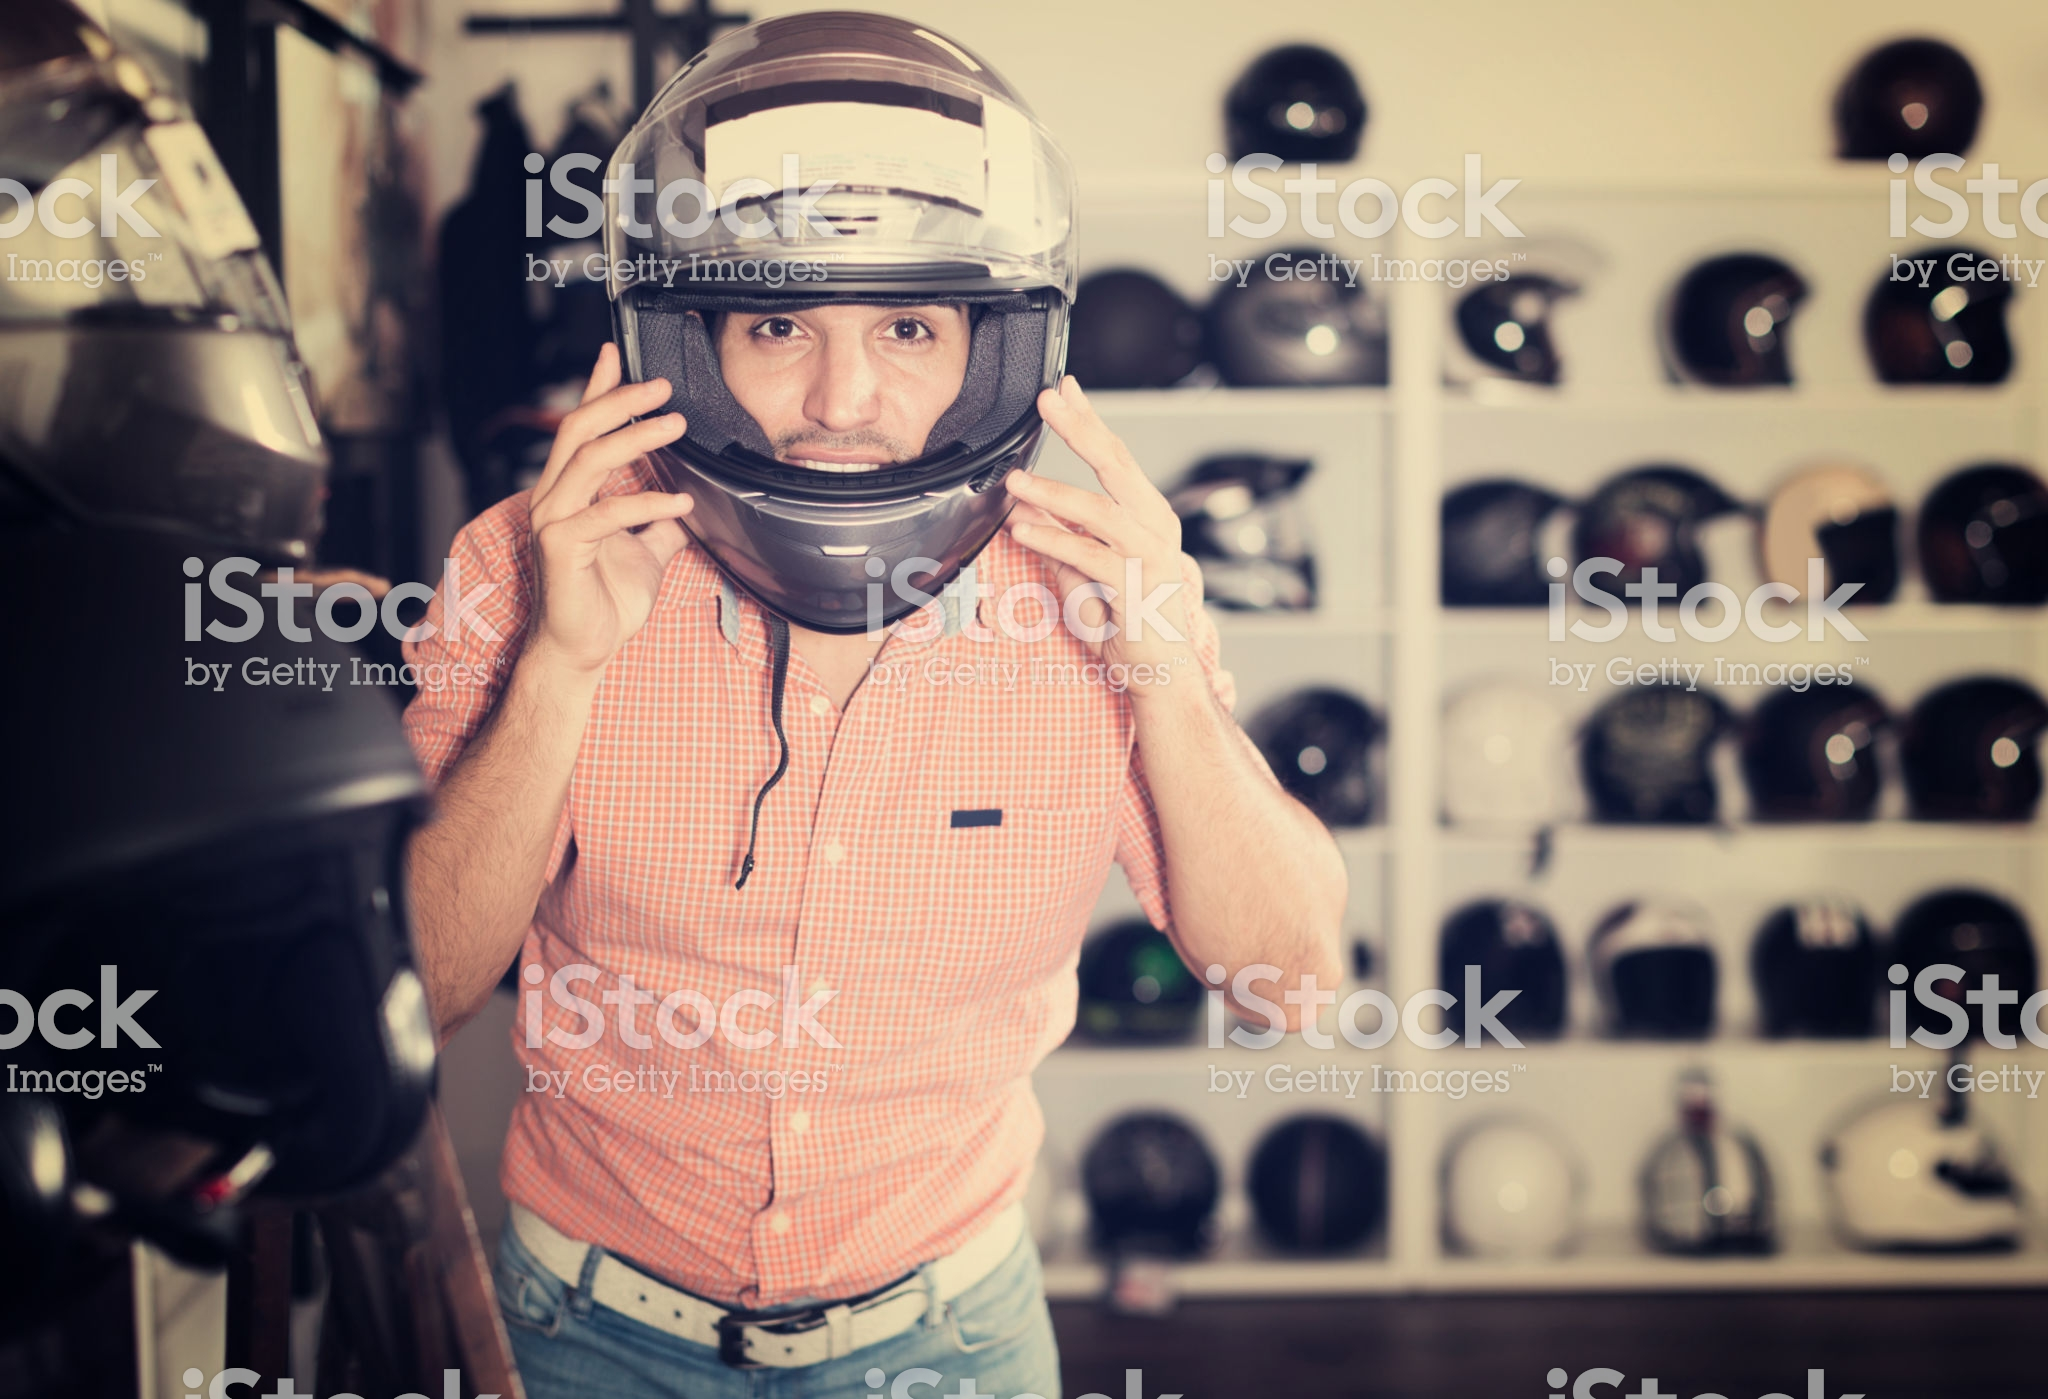helmet: (596, 22, 1114, 615)
